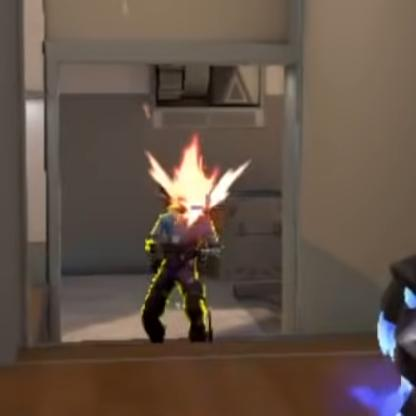enemyHead: (164, 159, 229, 217)
